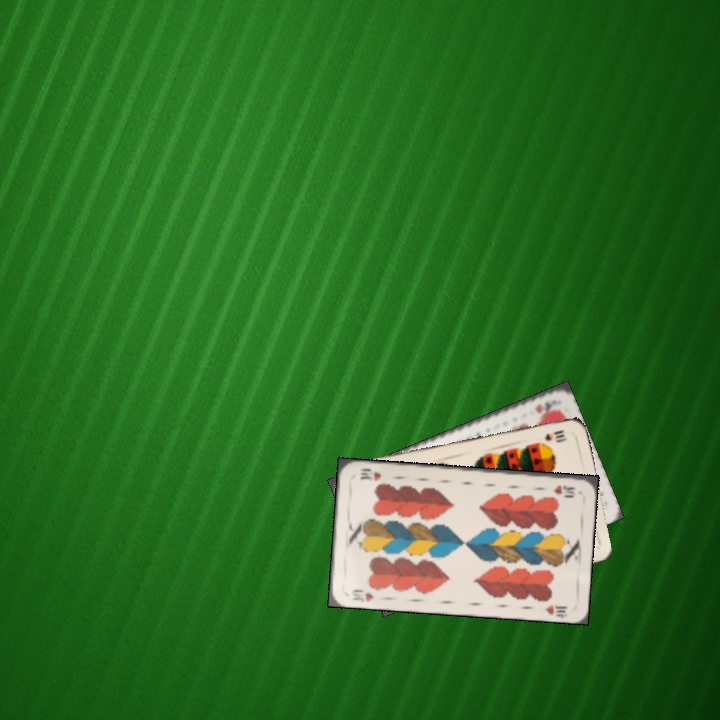H10: (347, 585, 376, 604), (549, 481, 578, 498)
HK: (531, 398, 555, 416)
S10: (541, 426, 570, 444)
